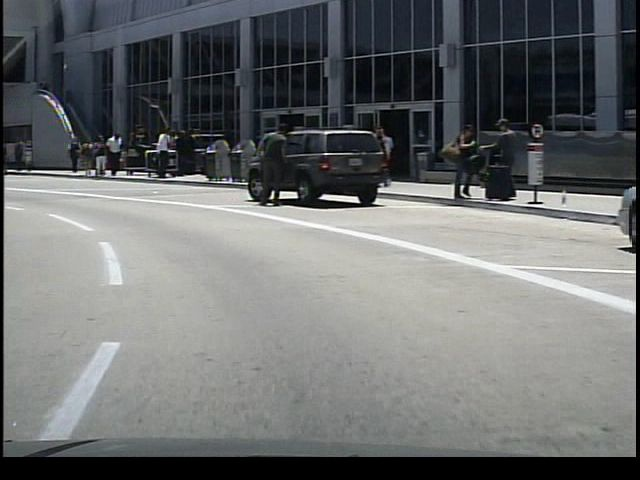person: (475, 114, 518, 200), (256, 116, 286, 211), (441, 117, 474, 203), (369, 121, 397, 187), (148, 125, 170, 181), (101, 129, 124, 179), (86, 132, 106, 181), (62, 132, 80, 176)
